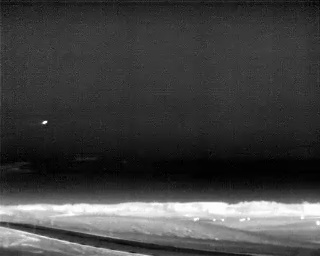BIRD: (40, 118, 49, 128)
